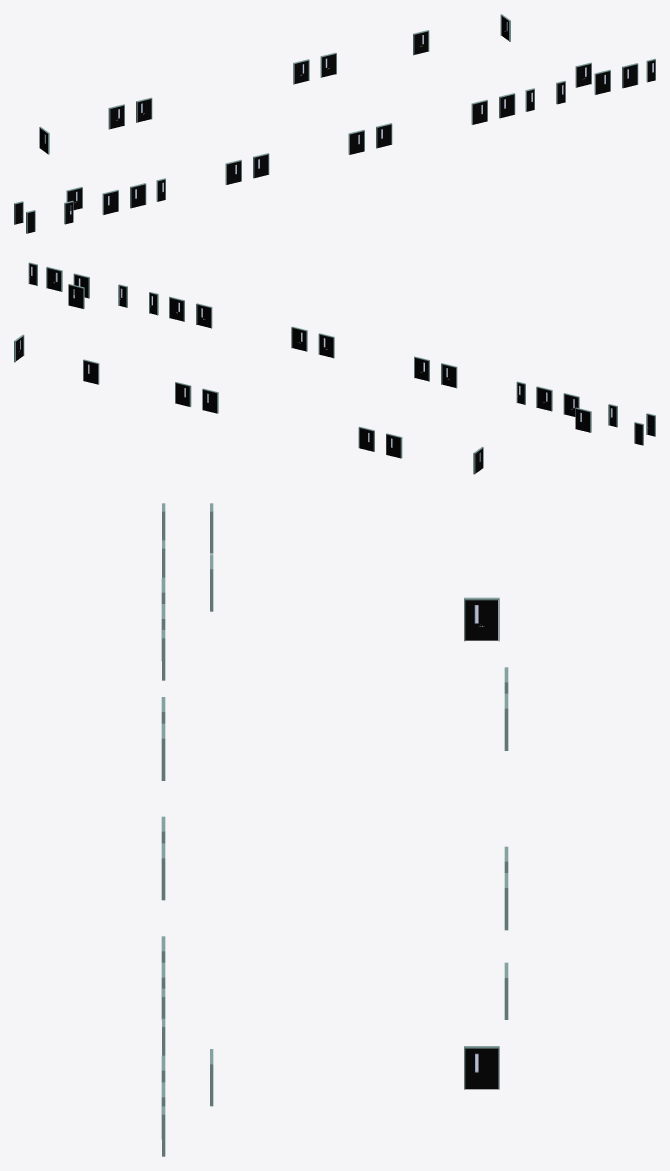
Rendered from 2F_Door.fbx.
3 views of the same model, one above another, from view 1: azimuth 30°, elevation 25°; view 2: azimuth 150°, elevation 25°; view 3: azimuth 270°, elevation 25° (orthographic). The views are drawn at different scales.
Parts seen in each view (by area): view 1: Door_set_A_2_R (×7), Door_set_A_2_L (×5), Door_set_A_2B_R (×2), Door_set_A_2B_L (×2); view 2: Door_set_A_2_R (×7), Door_set_A_2_L (×4), Door_set_A_2B_R (×3), Door_set_A_2B_L (×2); view 3: Door_set_A_2_L, Door_set_A_2_R.
Boxes of the visible parts, x1,y1,x2,y2 form: Door_set_A_2_R (×7): (108, 30, 638, 148); Door_set_A_2_L (×5): (136, 52, 610, 154); Door_set_A_2B_R (×2): (102, 153, 269, 215); Door_set_A_2B_L (×2): (130, 159, 241, 208); Door_set_A_2_R (×7): (46, 266, 402, 458); Door_set_A_2_L (×4): (175, 303, 374, 451); Door_set_A_2B_R (×3): (414, 356, 591, 432); Door_set_A_2B_L (×2): (441, 363, 552, 411); Door_set_A_2_L: (464, 597, 499, 641); Door_set_A_2_R: (464, 1046, 499, 1089).
Size of the model in its own units: 74.31 by 2.4 by 17.79.
